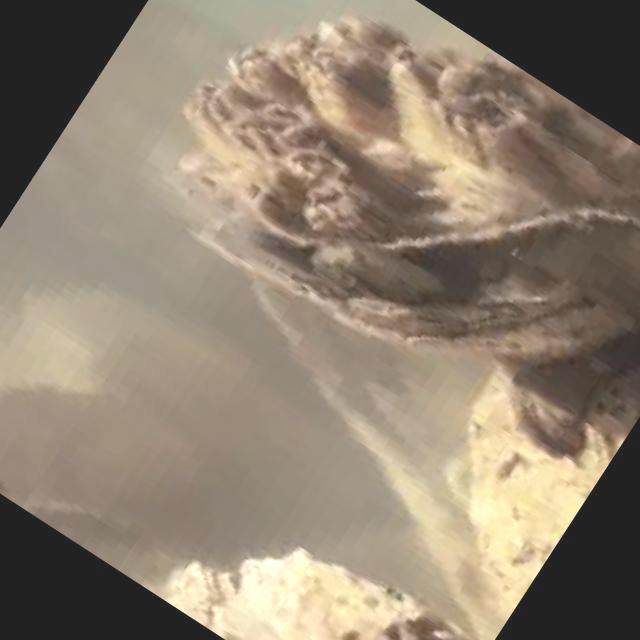Oyster-Closed: (465, 367, 640, 614), (224, 547, 414, 640), (511, 334, 640, 452), (151, 557, 221, 634)
Oyster-Open: (171, 20, 640, 350)
